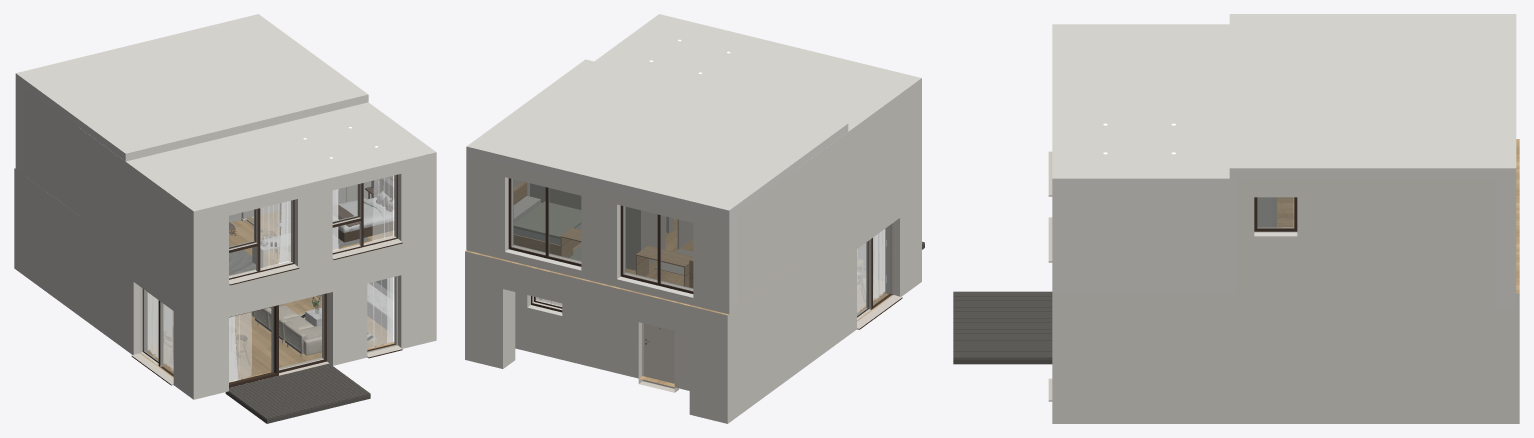
Rendered from wnetrze-g.glb.
The picture shows the model from 3 angles, left to right: view 1: azimuth 30°, elevation 25°; view 2: azimuth 150°, elevation 25°; view 3: azimuth 270°, elevation 25°; orthographic projection. The views are drawn at different scales.
Visible parts, largest first — view 1: KOND_1__SUFIT, KOND_0__WNETRZE, KOND_1__WNETRZE, KOND_0__TRANSPARENT, KOND_1__TRANSPARENT, KOND_0__PODLOGA, KOND_1__PODLOGA; view 2: KOND_1__SUFIT, KOND_0__WNETRZE, KOND_1__WNETRZE, KOND_1__TRANSPARENT, KOND_1__DETALE, KOND_0__TRANSPARENT, KOND_1__PODLOGA, KOND_0__PODLOGA; view 3: KOND_1__SUFIT, KOND_0__WNETRZE, KOND_1__WNETRZE, KOND_1__PODLOGA, KOND_1__TRANSPARENT.
Part boxes in pixels (x1,y1,x2,y2): KOND_1__SUFIT: (15,14,435,211); KOND_0__WNETRZE: (14,168,436,423); KOND_1__WNETRZE: (15,81,436,299); KOND_0__TRANSPARENT: (142,277,394,382); KOND_1__TRANSPARENT: (229,175,394,275); KOND_0__PODLOGA: (141,296,394,382); KOND_1__PODLOGA: (14,168,394,266); KOND_1__SUFIT: (466,14,921,218); KOND_0__WNETRZE: (465,173,924,423); KOND_1__WNETRZE: (466,78,921,314); KOND_1__TRANSPARENT: (511,179,693,290); KOND_1__DETALE: (513,39,730,287); KOND_0__TRANSPARENT: (857,224,891,317); KOND_1__PODLOGA: (465,218,791,315); KOND_0__PODLOGA: (639,280,892,387); KOND_1__SUFIT: (1052,14,1516,178); KOND_0__WNETRZE: (953,291,1519,423); KOND_1__WNETRZE: (1048,151,1516,308); KOND_1__PODLOGA: (1277,139,1519,293); KOND_1__TRANSPARENT: (1257,197,1293,227).
Size of the model in its own units: 7.57 by 5.94 by 11.63.
Materials: 23 (11 with a texture image).
